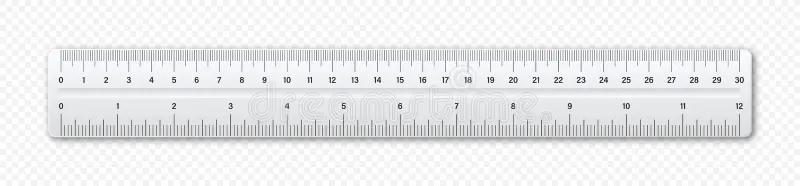scale: (49, 47, 753, 139)
